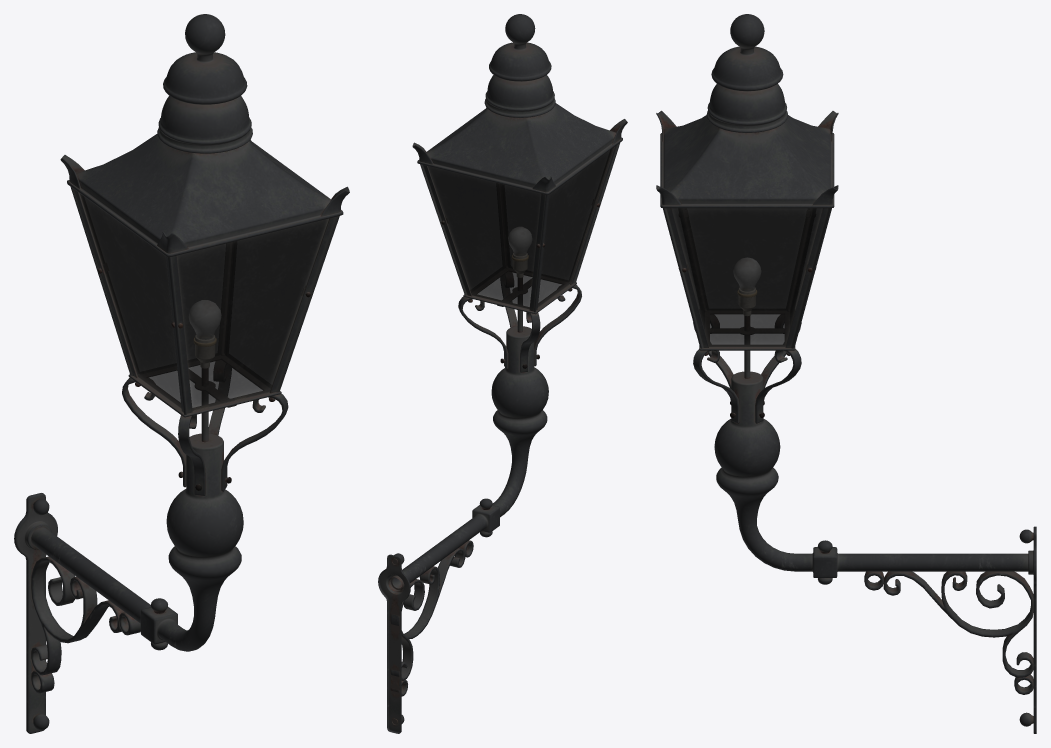
The model's file is lampWall1.glb.
3 views of the same model, side by side, from view 1: azimuth 30°, elevation 25°; view 2: azimuth 150°, elevation 25°; view 3: azimuth 270°, elevation 25° (orthographic). The views are drawn at different scales.
Visible parts, largest first — view 1: street_lamp_02; view 2: street_lamp_02; view 3: street_lamp_02.
Part boxes in pixels (left/top/right/bottom): street_lamp_02: left=14, top=14, right=349, bottom=733; street_lamp_02: left=378, top=14, right=627, bottom=733; street_lamp_02: left=656, top=14, right=1036, bottom=733.
Bounding box in the file's own units: 0.3865 × 1.68 × 0.8068.
3 materials, 3 textured.
